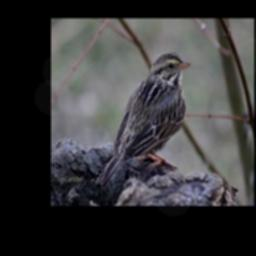Sparrow: (95, 50, 193, 189)
